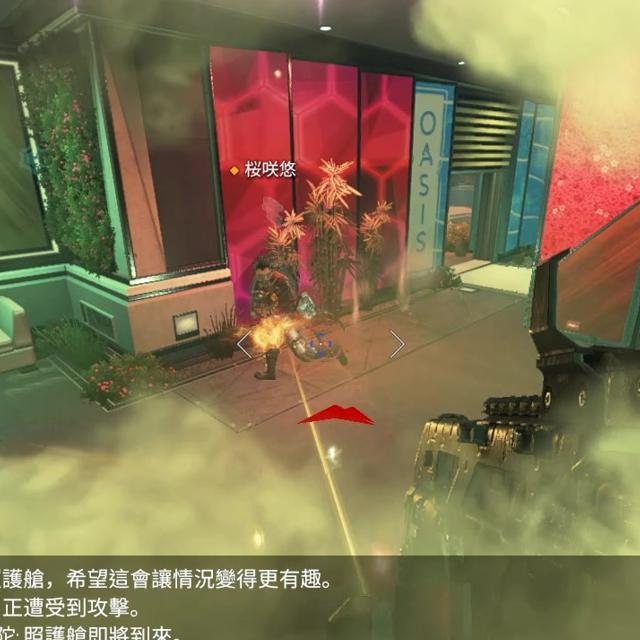avatar: (249, 259, 301, 382)
object: (248, 308, 302, 354)
